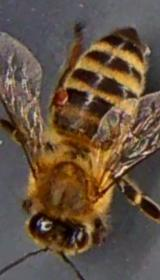varroa_mite: (48, 79, 71, 109)
